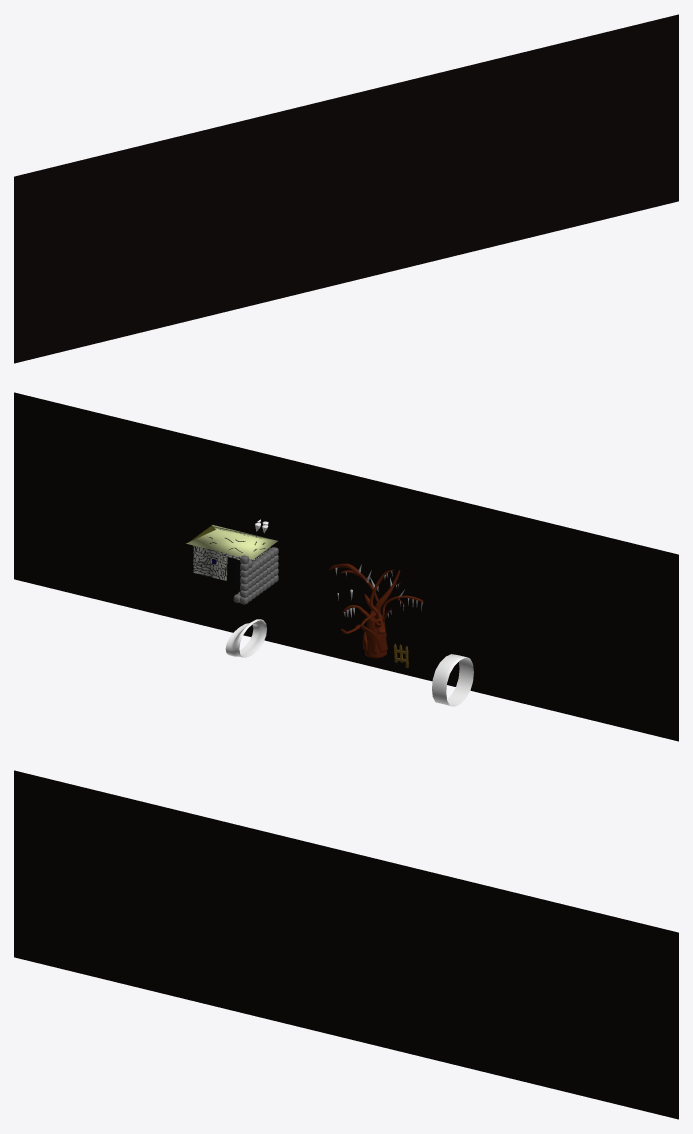
Rendered from screen_11_00.obj.
The picture shows the model from 3 angles, top to bottom: view 1: azimuth 30°, elevation 25°; view 2: azimuth 150°, elevation 25°; view 3: azimuth 330°, elevation 25°; orthographic projection.
Visible parts, largest first — view 1: Background.003_Plane.004; view 2: Background.003_Plane.004, Cube.011_Cube.675, BigTree.000_Cube.821, Ground.003_Cube.831, Ground.000_Cube.010; view 3: Background.003_Plane.004.
Boxes of the visible parts, x1,y1,x2,y2 form: Background.003_Plane.004: (14, 14, 678, 363); Background.003_Plane.004: (14, 392, 678, 741); Cube.011_Cube.675: (186, 525, 277, 584); BigTree.000_Cube.821: (329, 563, 423, 658); Ground.003_Cube.831: (432, 654, 473, 706); Ground.000_Cube.010: (225, 619, 266, 657); Background.003_Plane.004: (14, 770, 678, 1119).
Bounding box in the file's own units: 104 × 27.92 × 11.75.
